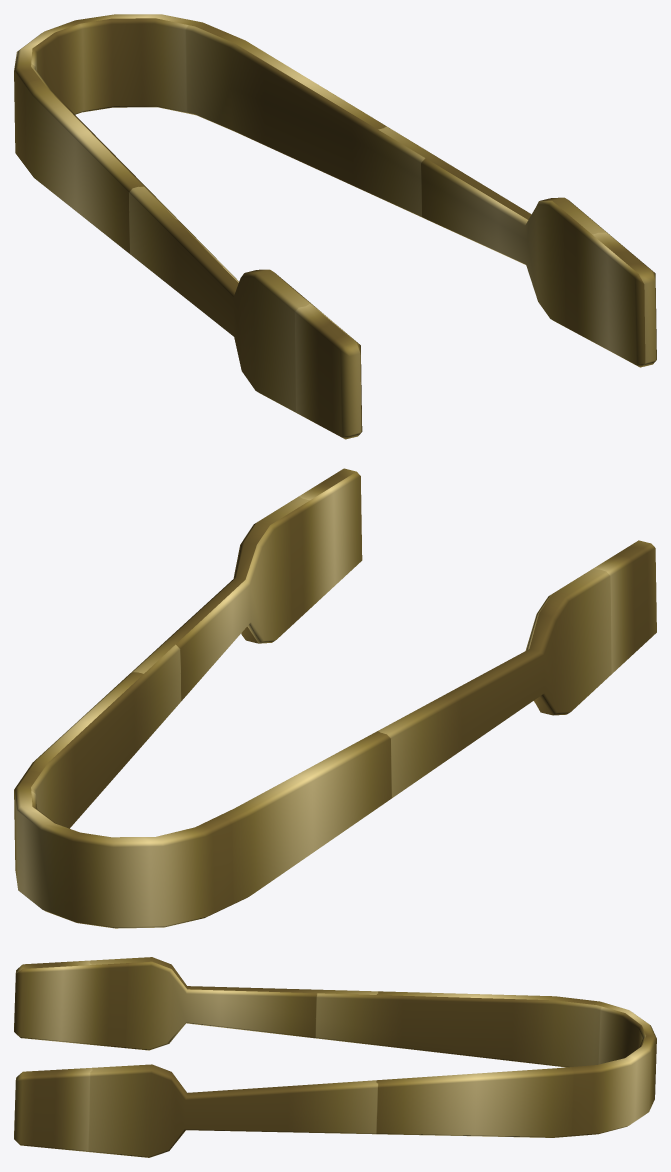
File: SugarTongs.fbx
3 renders of one model, top to bottom at view 1: azimuth 30°, elevation 25°; view 2: azimuth 150°, elevation 25°; view 3: azimuth 270°, elevation 25°, orthographic. The views are drawn at different scales.
Visible parts, largest first — view 1: SugarTongs; view 2: SugarTongs; view 3: SugarTongs.
Part boxes in pixels (x1=…): SugarTongs: x1=14, y1=14, x2=656, y2=439; SugarTongs: x1=14, y1=468, x2=656, y2=928; SugarTongs: x1=14, y1=957, x2=656, y2=1157.
Bounding box in the file's own units: 19.71 × 7.09 × 46.53.
